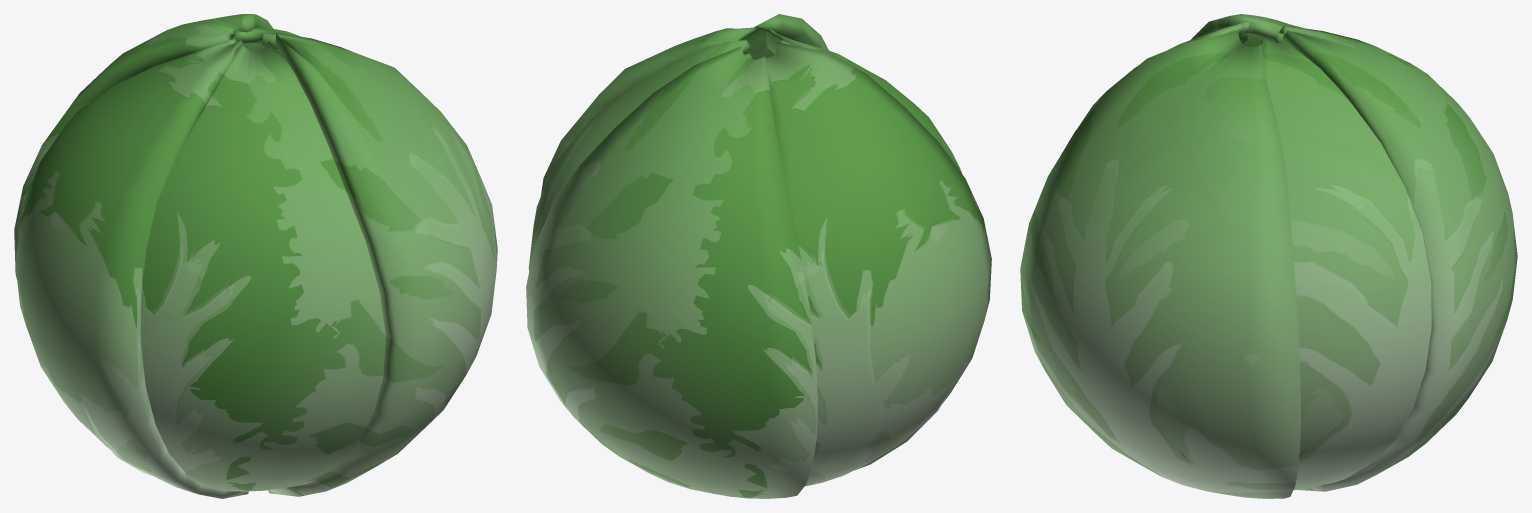
The model's file is Iceberg Lettuce.fbx.
3 views of the same model, side by side, from view 1: azimuth 30°, elevation 25°; view 2: azimuth 150°, elevation 25°; view 3: azimuth 270°, elevation 25° (orthographic). The views are drawn at different scales.
Visible parts, largest first — view 1: Iceberg Lettuce; view 2: Iceberg Lettuce; view 3: Iceberg Lettuce.
Part boxes in pixels (<box>): Iceberg Lettuce: <box>14,14,497,498</box>; Iceberg Lettuce: <box>526,14,991,498</box>; Iceberg Lettuce: <box>1020,14,1517,498</box>.
Size of the model in its own units: 20.13 by 20.59 by 20.63.
